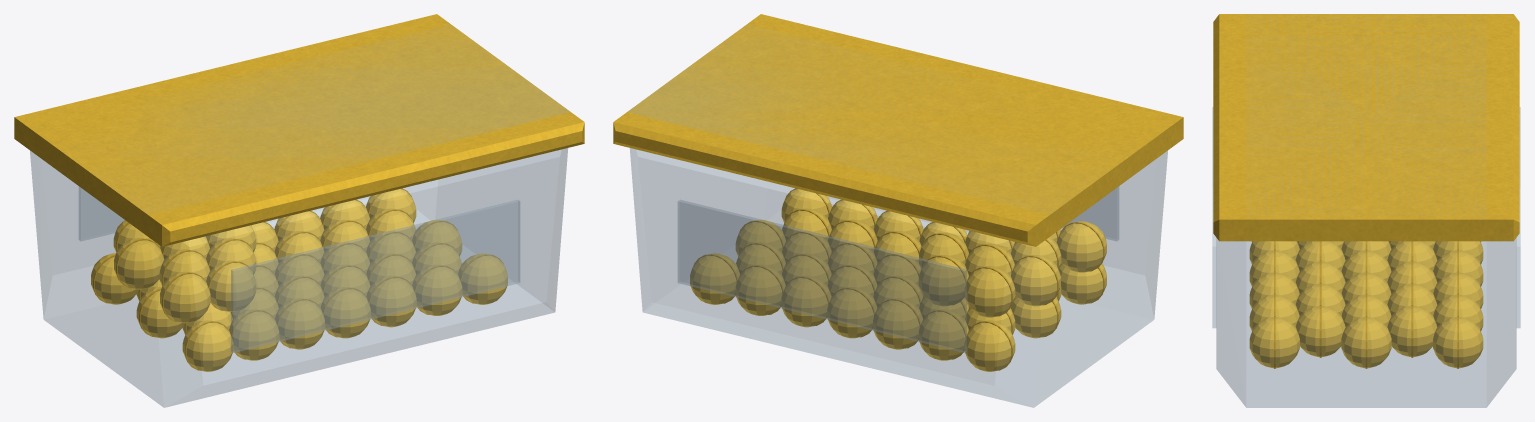
File: hopper_box_v2.glb
3 views of the same model, side by side, from view 1: azimuth 30°, elevation 25°; view 2: azimuth 150°, elevation 25°; view 3: azimuth 270°, elevation 25° (orthographic).
Parts seen in each view (by area): view 1: hopper_box_mesh, paintball_02, paintball_34, paintball_33, paintball_38, paintball_12, paintball_17, paintball_32, paintball_07, paintball_22, paintball_27, paintball_01 (+22 smaller); view 2: hopper_box_mesh, paintball_00, paintball_35, paintball_34, paintball_33, paintball_10, paintball_15, paintball_30, paintball_05, paintball_20, paintball_39, paintball_25 (+22 smaller); view 3: hopper_box_mesh, paintball_31, paintball_30, paintball_32, paintball_28, paintball_29, paintball_15, paintball_17, paintball_25, paintball_27, paintball_20, paintball_22 (+12 smaller).
Part boxes in pixels (x1,y1,x2,y2): hopper_box_mesh: (14,14,584,407); paintball_02: (182,320,233,371); paintball_34: (160,271,210,323); paintball_33: (114,238,164,289); paintball_38: (206,260,255,311); paintball_12: (275,298,324,349); paintball_17: (321,287,370,338); paintball_32: (458,253,507,304); paintball_07: (229,309,278,360); paintball_22: (366,276,416,327); paintball_27: (412,265,461,315); paintball_01: (136,286,182,338); hopper_box_mesh: (613,14,1183,407); paintball_00: (964,320,1015,371); paintball_35: (965,266,1015,317); paintball_34: (1056,221,1106,272); paintball_33: (1010,255,1060,306); paintball_10: (873,298,922,349); paintball_15: (827,287,876,338); paintball_30: (690,253,739,304); paintball_05: (919,309,968,360); paintball_20: (781,276,831,327); paintball_39: (919,255,968,305); paintball_25: (736,265,785,315); hopper_box_mesh: (1212,14,1520,407); paintball_31: (1341,316,1391,368); paintball_30: (1433,316,1483,368); paintball_32: (1249,316,1299,368); paintball_28: (1387,305,1437,357); paintball_29: (1295,305,1345,357); paintball_15: (1433,249,1483,286); paintball_17: (1249,249,1299,286); paintball_25: (1433,293,1483,330); paintball_27: (1249,293,1299,330); paintball_20: (1433,271,1483,308); paintball_22: (1249,271,1299,308).
Bounding box in the file's own units: 0.162 × 0.072 × 0.1027.
4 materials, 1 textured.
